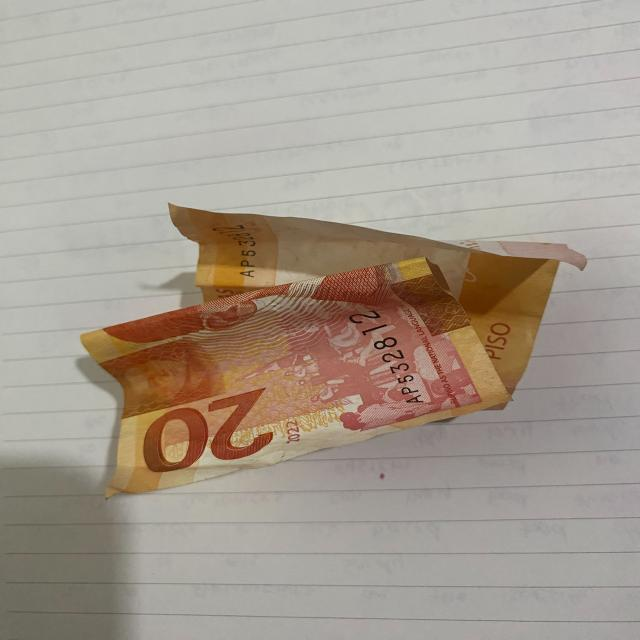concealed_value: (102, 340, 228, 414)
serial_number: (341, 305, 439, 416), (200, 220, 278, 286)
value: (139, 382, 289, 486)
